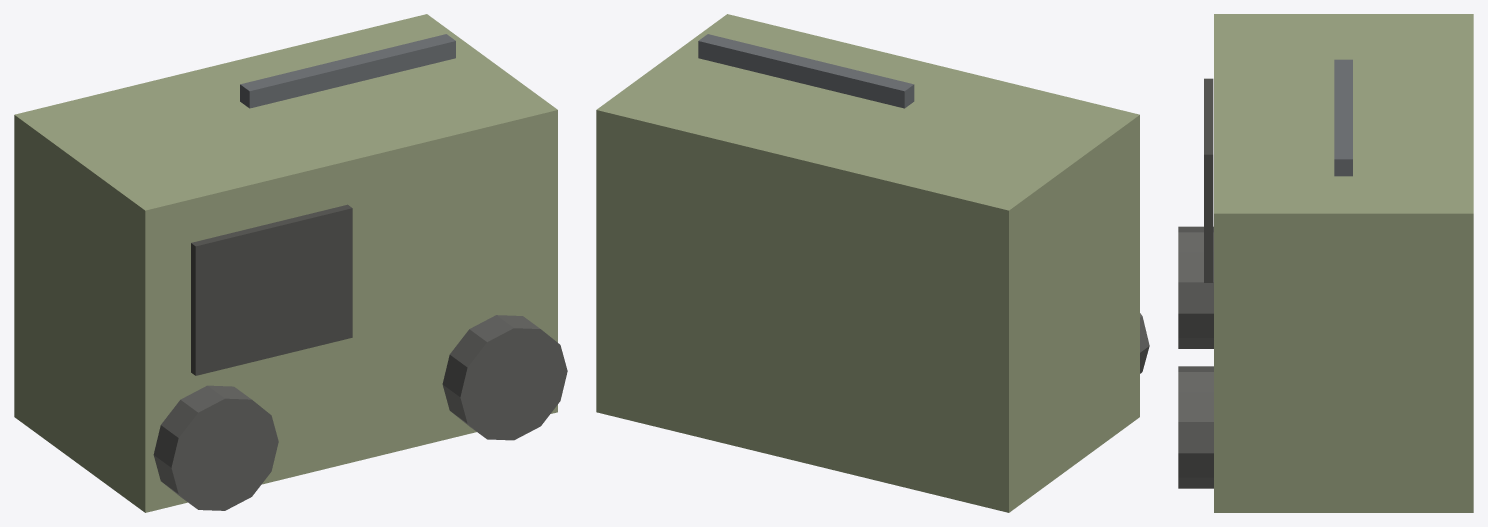
The model's file is generator_02.glb.
The picture shows the model from 3 angles, left to right: view 1: azimuth 30°, elevation 25°; view 2: azimuth 150°, elevation 25°; view 3: azimuth 270°, elevation 25°; orthographic projection.
Parts seen in each view (by area): view 1: body, panel, wheel-0.35, wheel0.35, handle; view 2: body, handle; view 3: body, wheel0.35, wheel-0.35, handle, panel.
Part boxes in pixels (bbox=[...]): body: bbox=[14, 14, 557, 512]; panel: bbox=[191, 204, 352, 375]; wheel-0.35: bbox=[153, 385, 278, 510]; wheel0.35: bbox=[442, 315, 567, 440]; handle: bbox=[240, 34, 455, 108]; body: bbox=[596, 14, 1139, 512]; handle: bbox=[698, 34, 914, 108]; body: bbox=[1214, 14, 1473, 512]; wheel0.35: bbox=[1178, 366, 1213, 488]; wheel-0.35: bbox=[1178, 226, 1213, 348]; handle: bbox=[1334, 59, 1352, 176]; panel: bbox=[1204, 78, 1213, 282].
Bounding box in the file's own units: 1 × 0.78 × 0.625.
